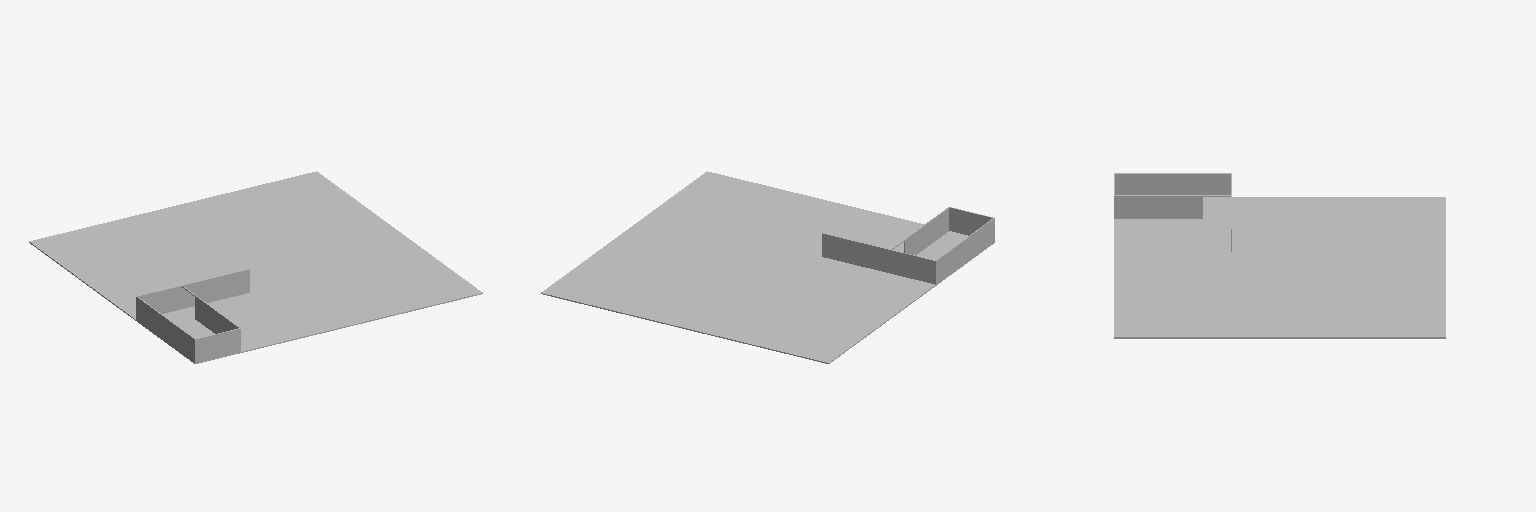
File: Wall Tests.obj
3 views of the same model, side by side, from view 1: azimuth 30°, elevation 25°; view 2: azimuth 150°, elevation 25°; view 3: azimuth 270°, elevation 25° (orthographic).
Parts seen in each view (by area): view 1: object 1; view 2: object 1; view 3: object 1.
Boxes of the visible parts, x1=… form: object 1: x1=29, y1=171, x2=482, y2=363; object 1: x1=541, y1=171, x2=994, y2=363; object 1: x1=1114, y1=173, x2=1445, y2=338.
Size of the model in its own units: 25.6 by 2.1 by 25.6.